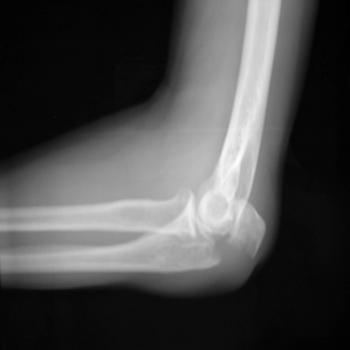Fracture: (207, 199, 268, 280)
